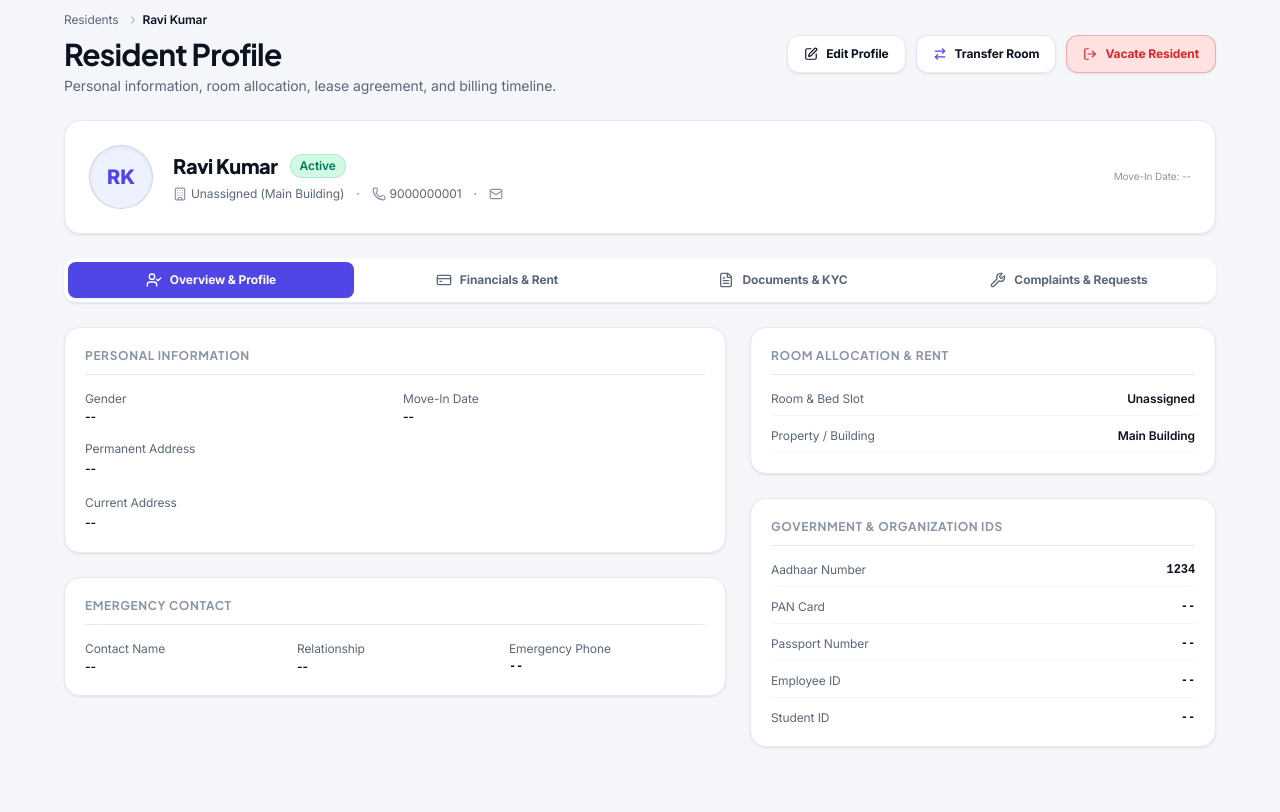
it: ResidentProfile → documents tab and the KYC upload gate › uploads off: no file inputs and an explanation, but stored documents stay downloadable
The image size is (1280, 812).
Click the button "Documents & KYC".
click(783, 280)  # box [640,262,926,298]
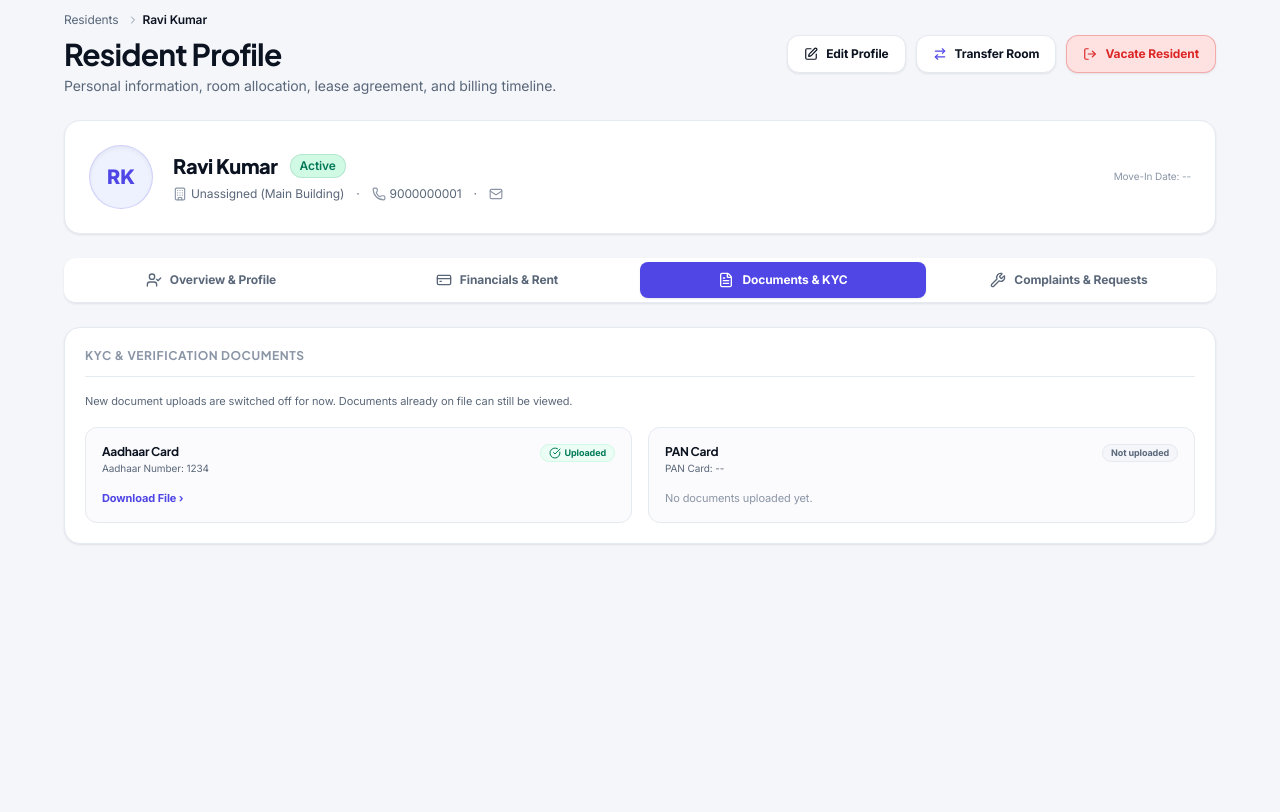
Expected: the text "New document uploads are switched off for now. Documents already on file can still be viewed." is shown, [85,394,572,408]
